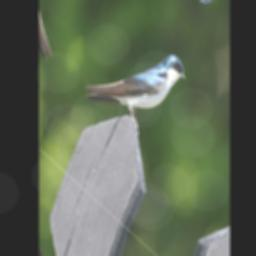Swallow: (81, 2, 189, 160)
